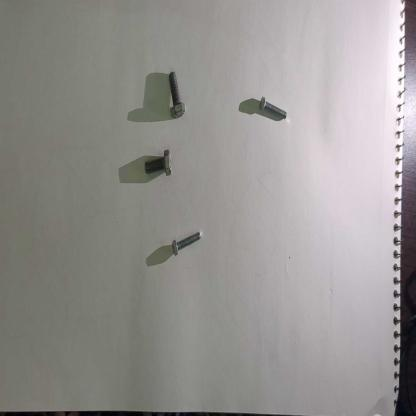Bolts: (141, 144, 174, 190), (164, 67, 188, 125), (258, 92, 290, 131), (171, 224, 203, 262)
